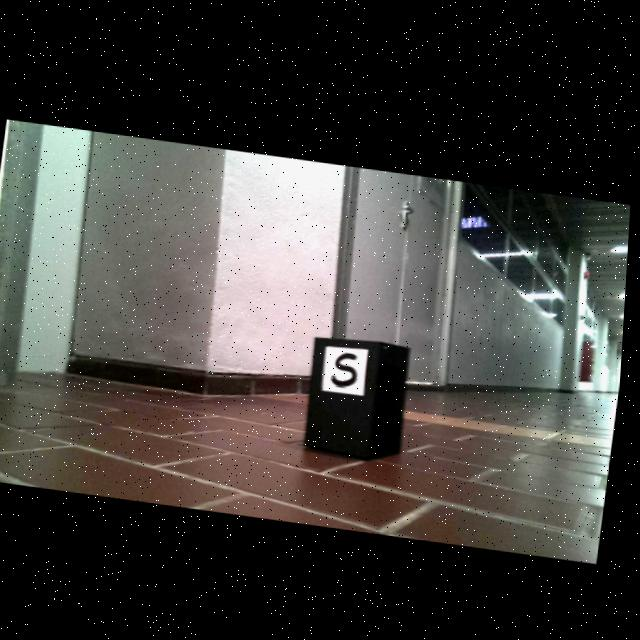S: (335, 348, 362, 382)
